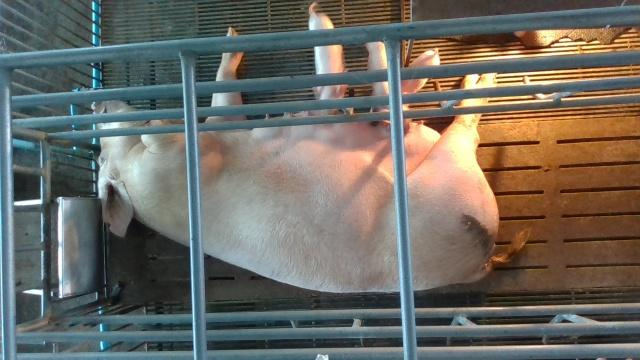piglet: (308, 0, 349, 113), (401, 48, 441, 110), (364, 41, 391, 113)
sow-sleep-lactate: (94, 25, 530, 293)
